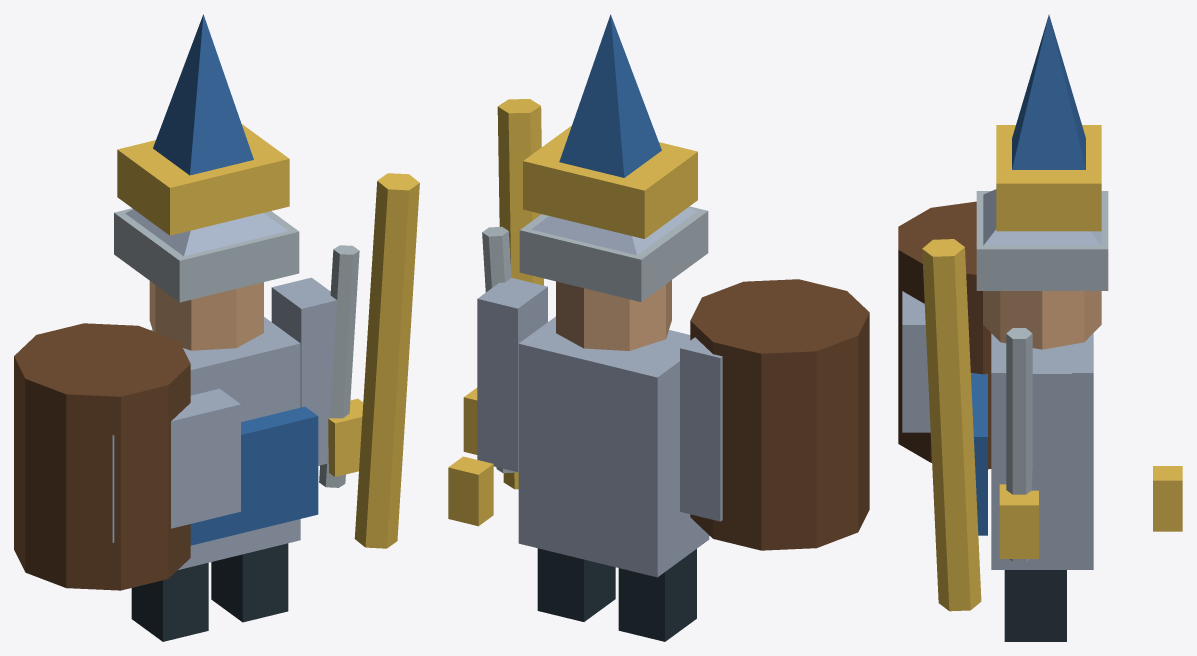
The model's file is swordsman.obj.
3 renders of one model, left to right at view 1: azimuth 30°, elevation 25°; view 2: azimuth 150°, elevation 25°; view 3: azimuth 270°, elevation 25°, orthographic.
Visible parts, largest first — view 1: infantry; view 2: infantry; view 3: infantry.
Part boxes in pixels (x1,y1,x2,y2): infantry: (14,14,419,641); infantry: (448,14,869,641); infantry: (898,14,1182,641).
Size of the model in its own units: 1.3 by 2 by 0.8618.
